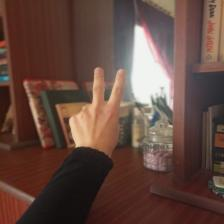two: (60, 64, 136, 162)
